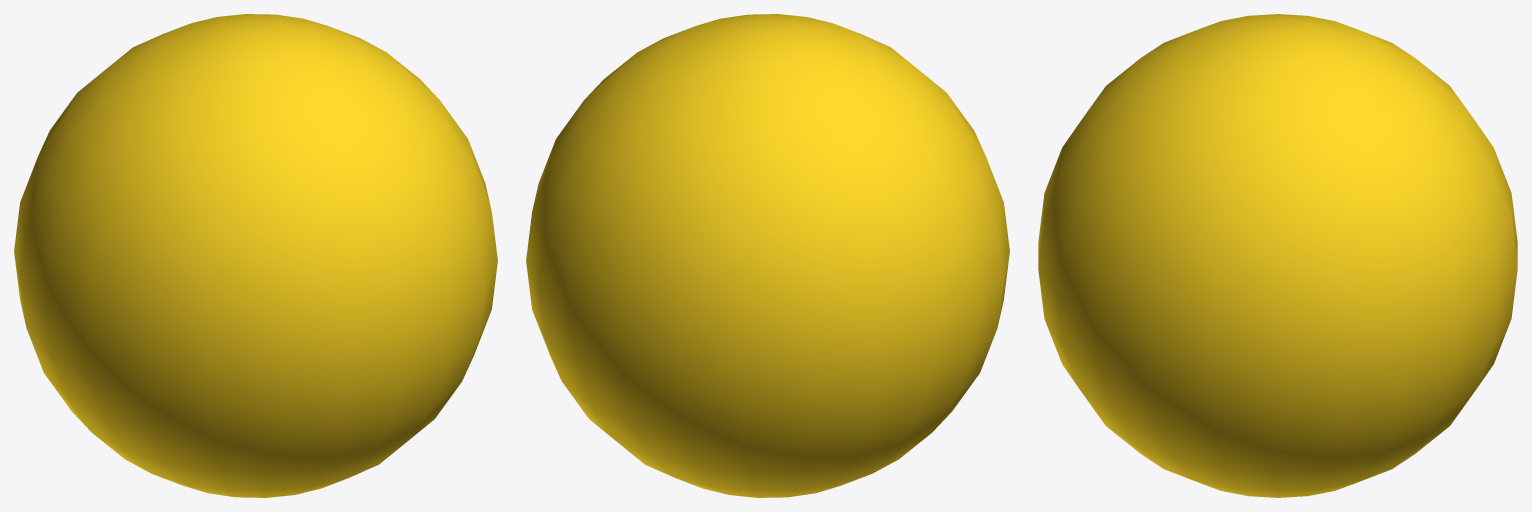
Rendered from SnookerBall_Yellow.fbx.
3 views of the same model, side by side, from view 1: azimuth 30°, elevation 25°; view 2: azimuth 150°, elevation 25°; view 3: azimuth 270°, elevation 25° (orthographic).
Visible parts, largest first — view 1: SnoookerBall_Yellow; view 2: SnoookerBall_Yellow; view 3: SnoookerBall_Yellow.
Boxes of the visible parts, box(x1,y1,x2,y2) form: SnoookerBall_Yellow: box(14, 14, 497, 497); SnoookerBall_Yellow: box(526, 14, 1009, 497); SnoookerBall_Yellow: box(1038, 14, 1517, 497).
Bounding box in the file's own units: 0.052 × 0.052 × 0.0515.
Materials: 1 (1 with a texture image).
